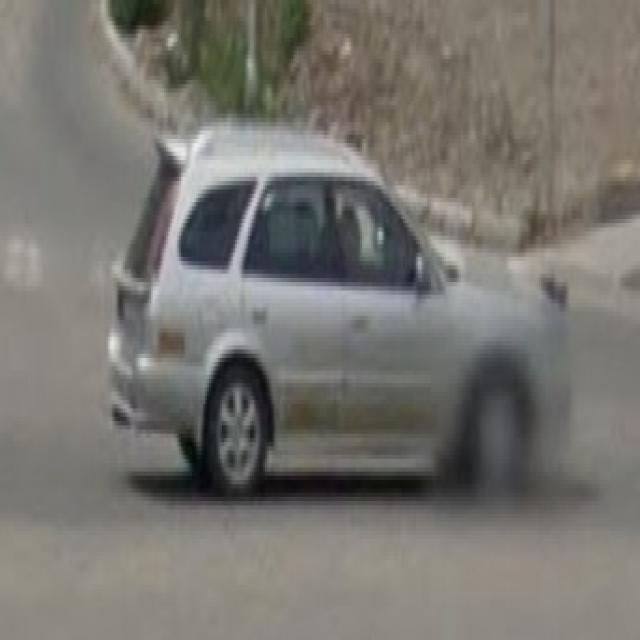car: (107, 118, 573, 499)
